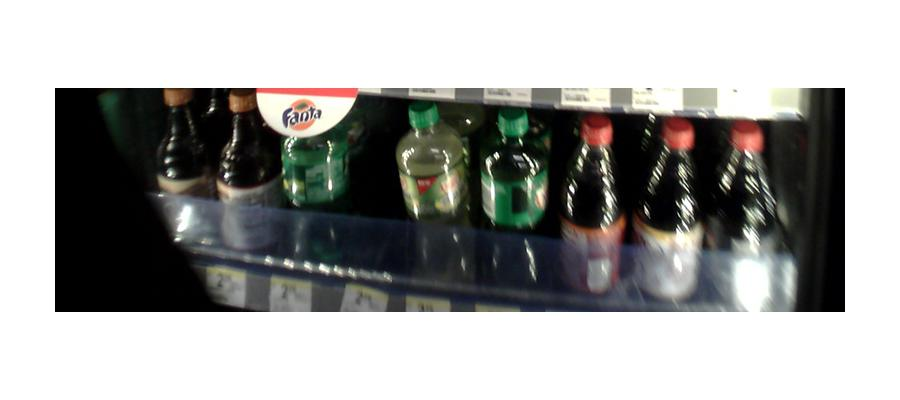bottle: (270, 87, 357, 254), (630, 117, 706, 307), (711, 122, 783, 311), (397, 105, 470, 277), (476, 112, 548, 281), (558, 117, 623, 295), (218, 90, 277, 256), (153, 86, 212, 246)
